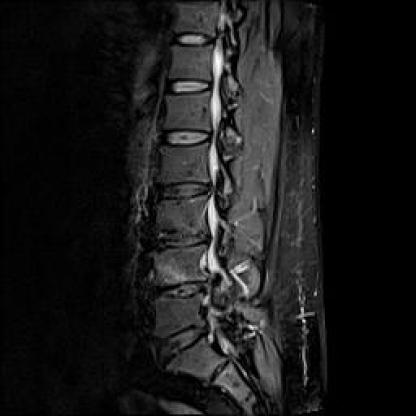Disc Bulgerotation: (149, 322, 214, 362), (147, 230, 212, 251)
